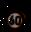Speed Limit -60-: (2, 6, 27, 31)
